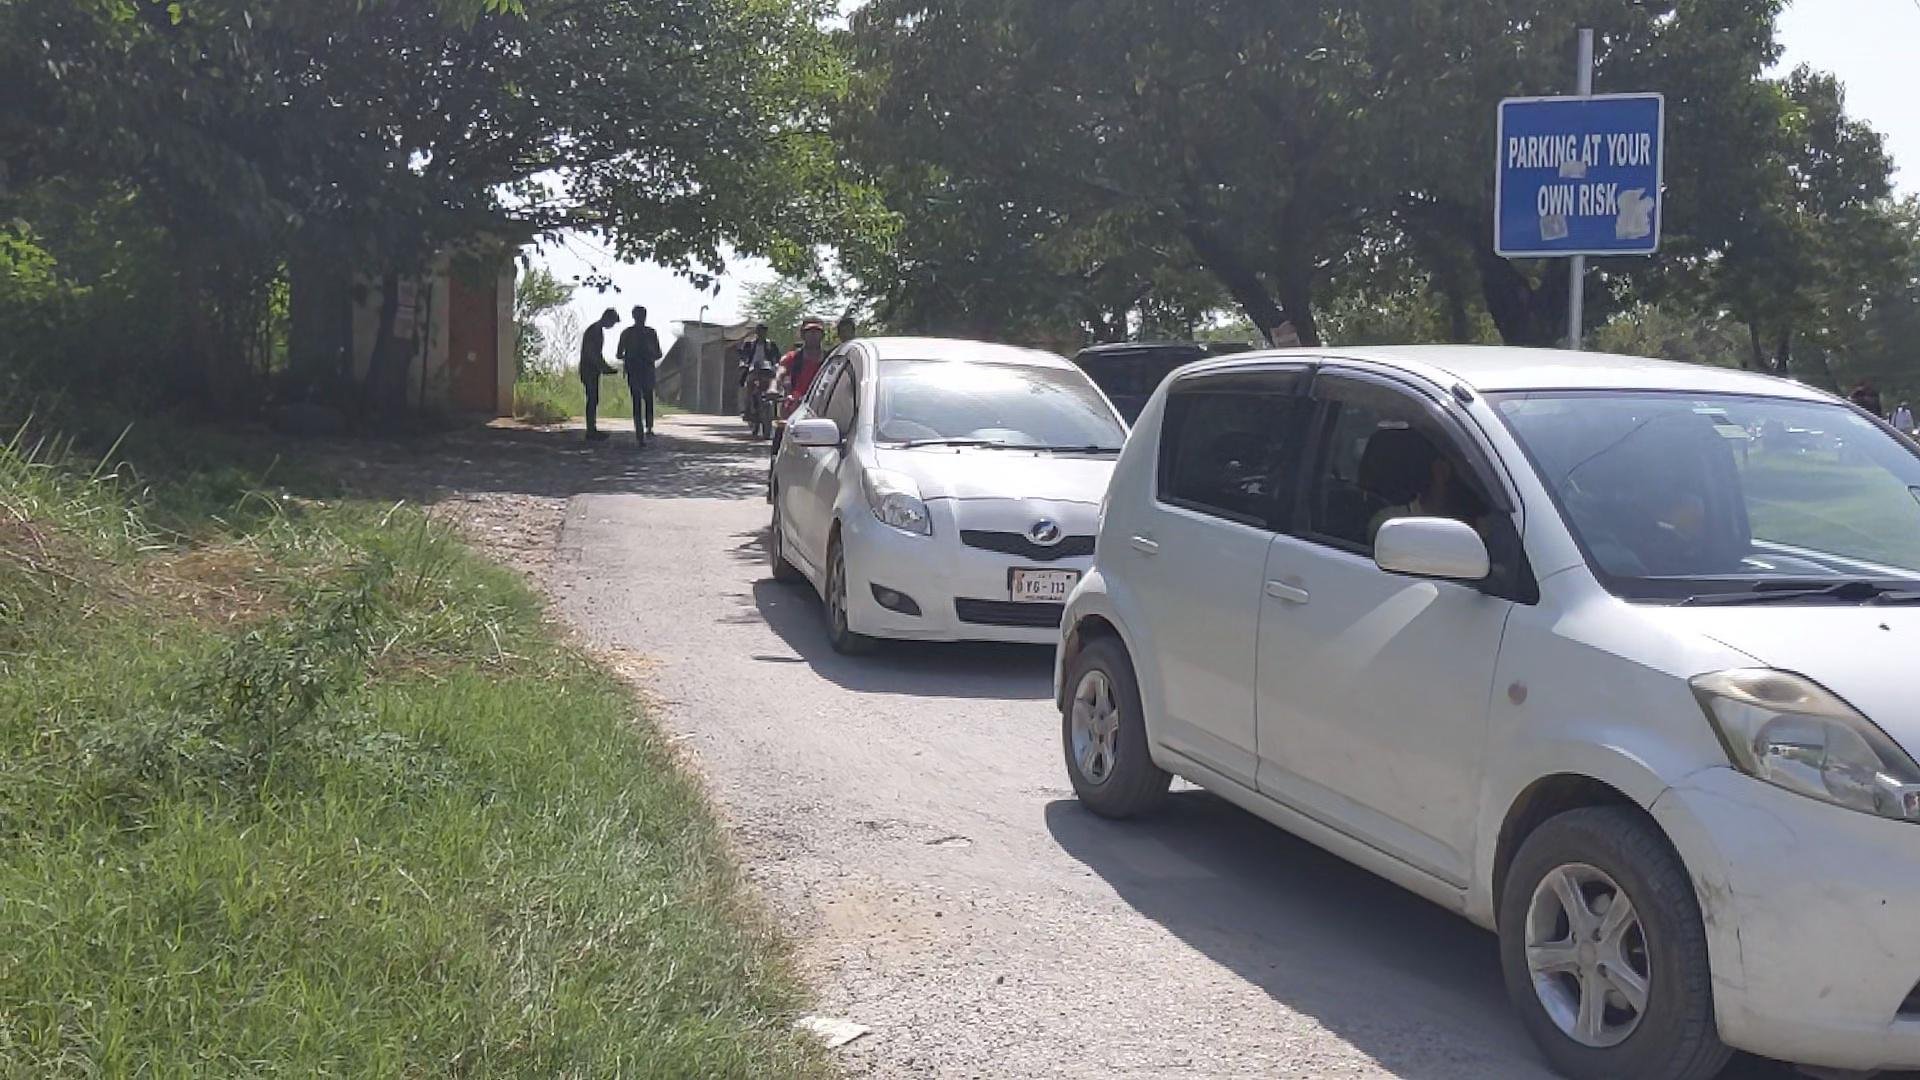windshield: (1464, 384, 1920, 611), (864, 356, 1124, 460)
